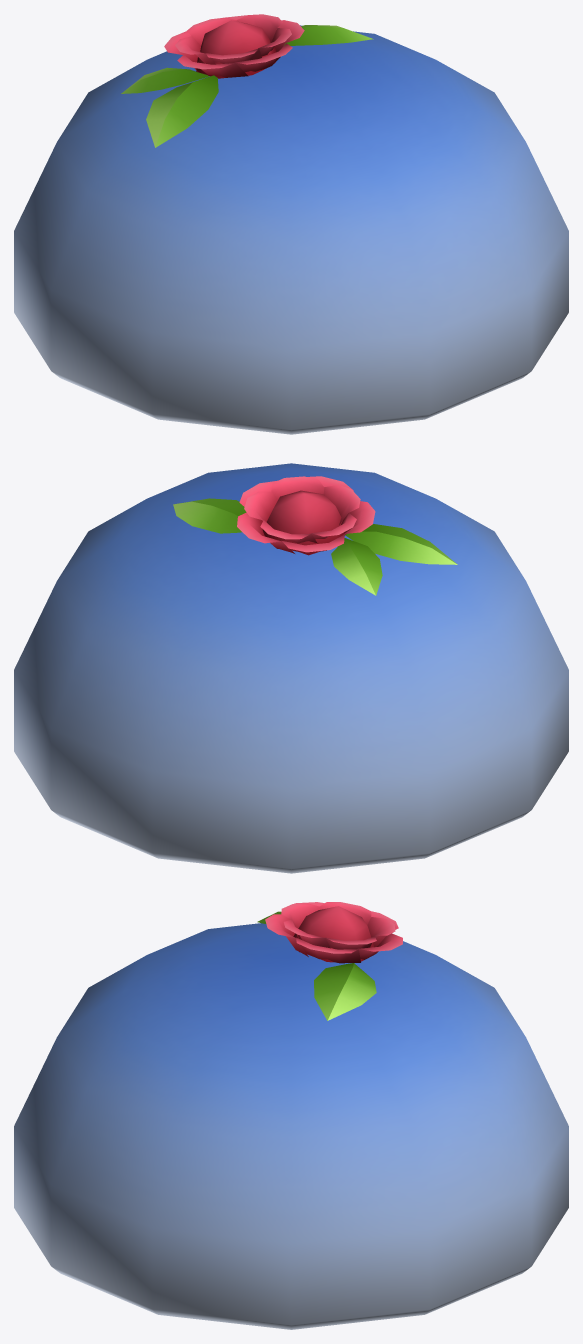
The model's file is m_PrincessCake01.fbx.
3 renders of one model, top to bottom at view 1: azimuth 30°, elevation 25°; view 2: azimuth 150°, elevation 25°; view 3: azimuth 270°, elevation 25°, orthographic.
Visible parts, largest first — view 1: m_PrincessCake01; view 2: m_PrincessCake01; view 3: m_PrincessCake01.
Boxes of the visible parts, x1=… form: m_PrincessCake01: x1=14, y1=14, x2=568, y2=434; m_PrincessCake01: x1=14, y1=463, x2=568, y2=873; m_PrincessCake01: x1=14, y1=902, x2=568, y2=1329.
Size of the model in its own units: 28 by 16.33 by 28.
